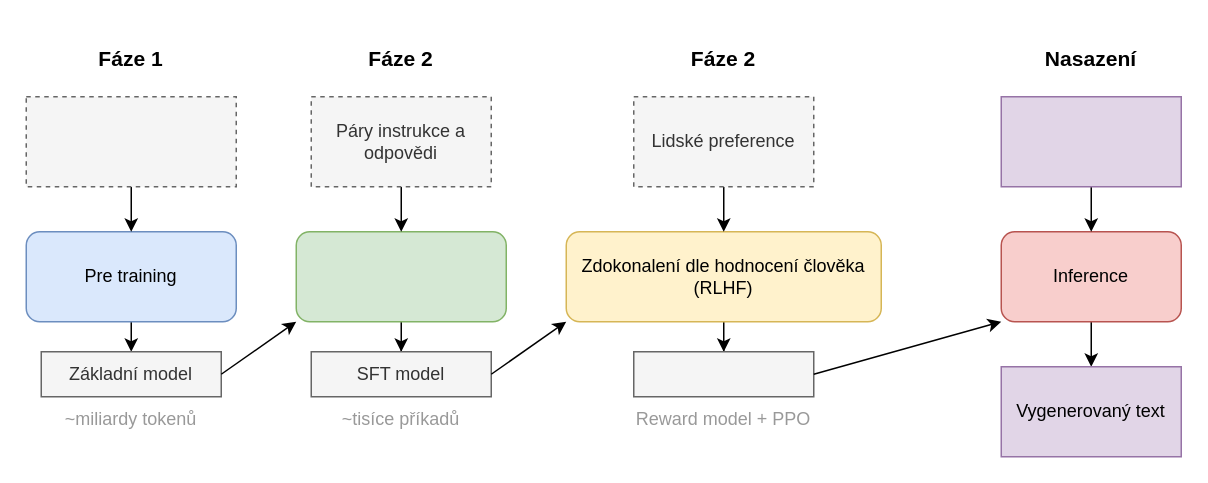
Some shapes in this 1208 by 483 pixel diagram are drawn without their labels. The box of each missing label's shape, as (x1, y1, x2, y2) in pixels:
Finální model: (632, 350, 814, 397)
Instrukční doľadování (SFT): (295, 230, 506, 322)
Vstupní prompt: (1000, 95, 1181, 187)
Webové stránky, knihy a zdrojové kódy: (25, 95, 236, 187)
